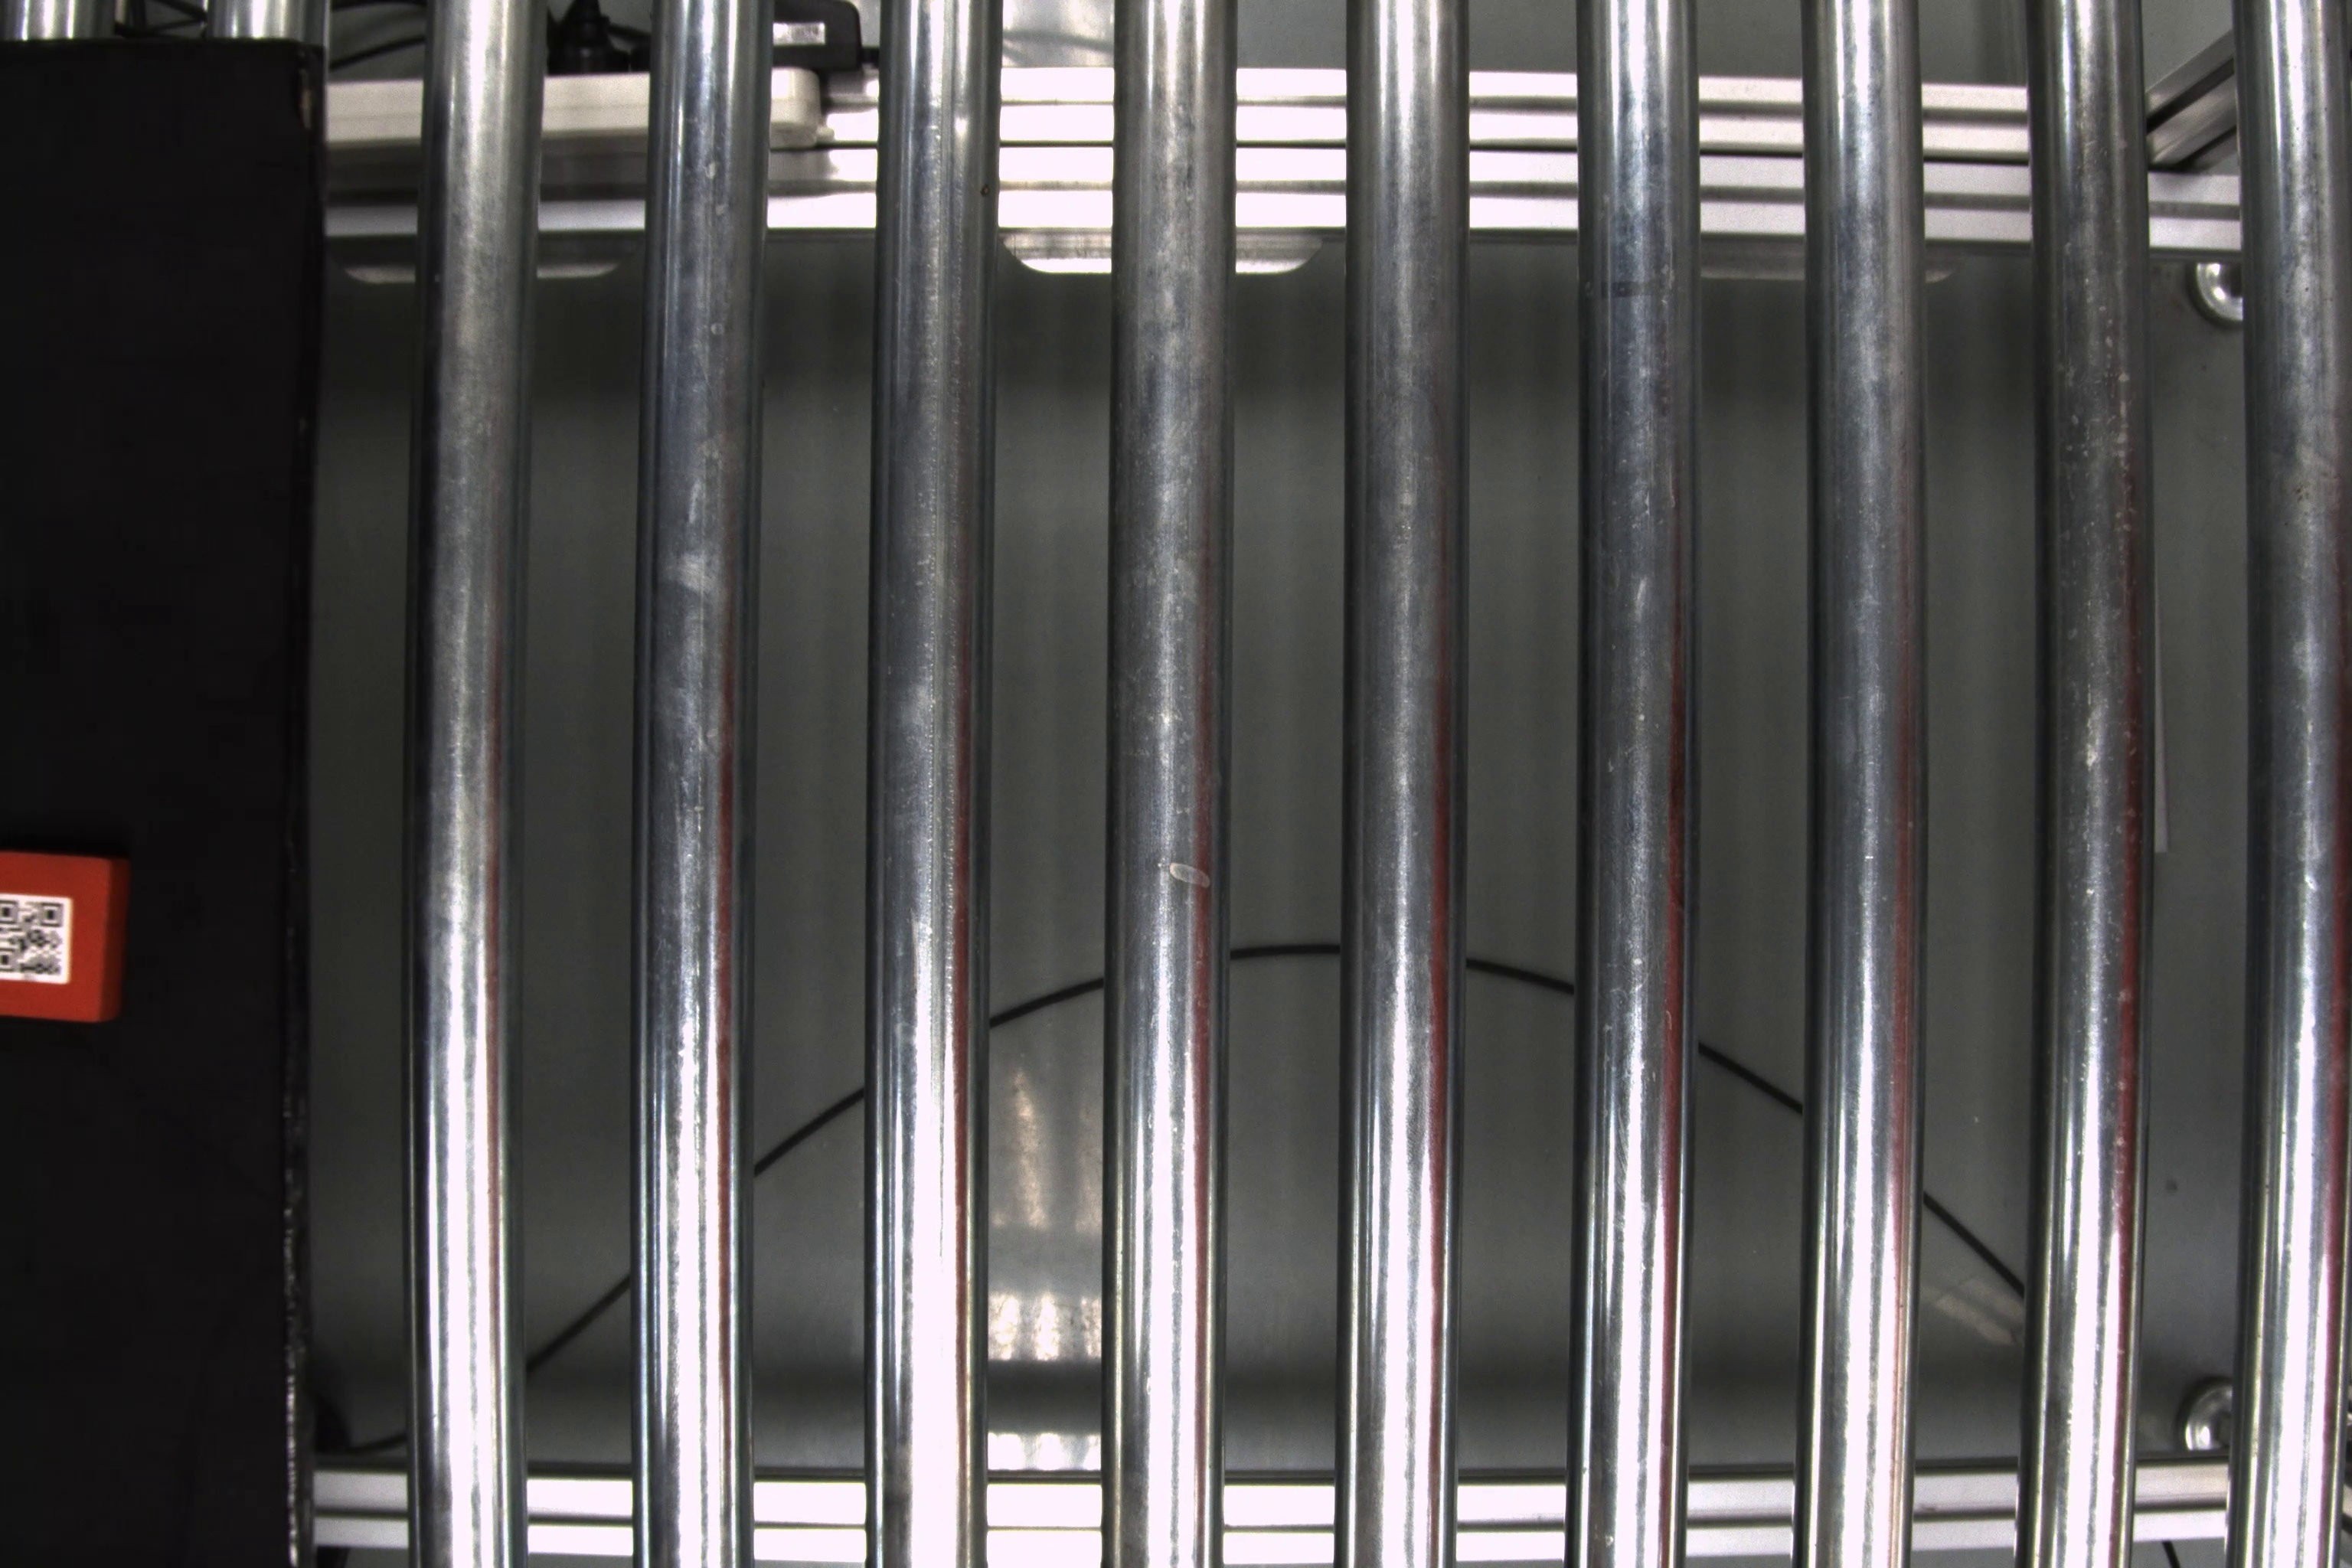wood: (5, 845, 131, 1022)
